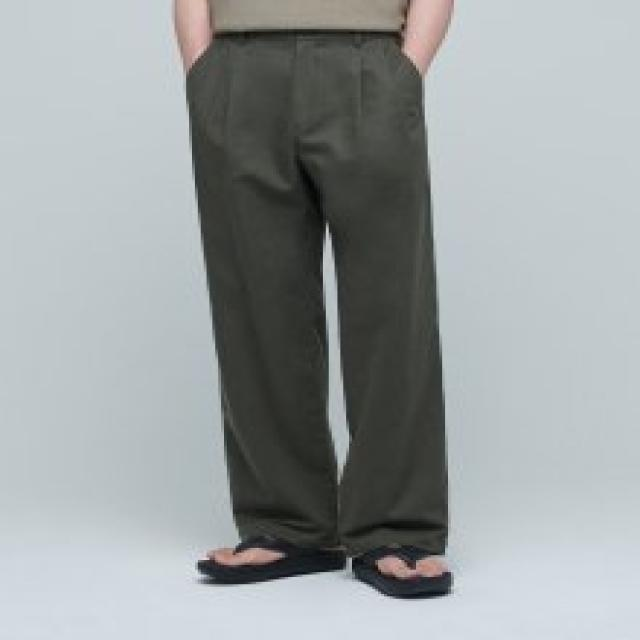long-pants: (185, 33, 452, 560)
